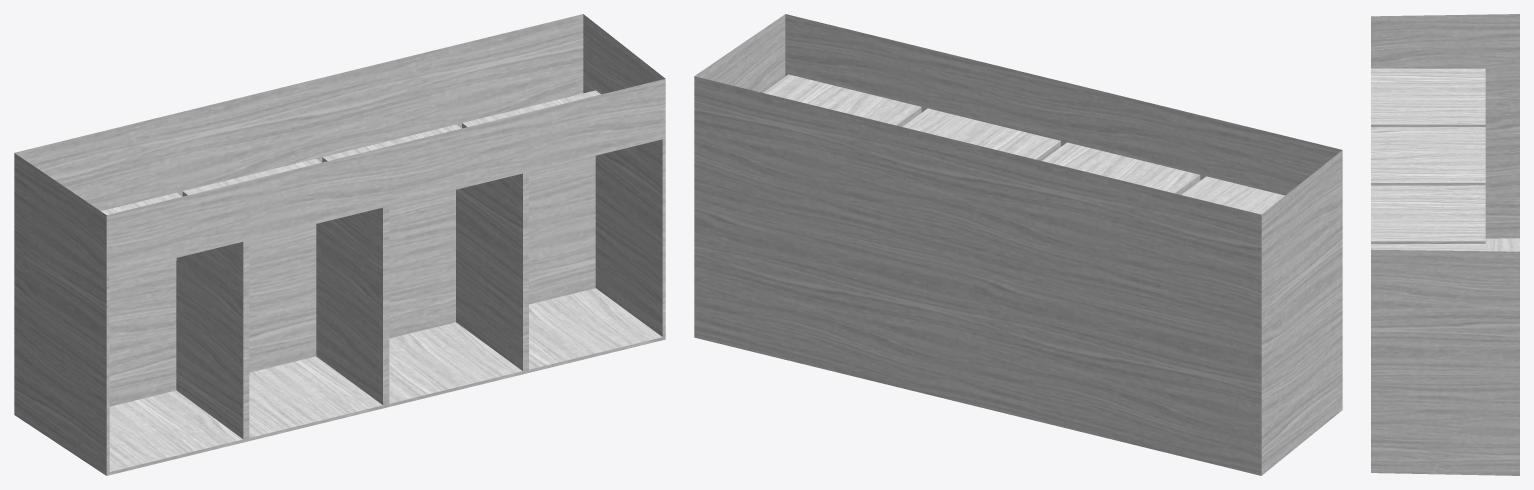
3 views of the same model, side by side, from view 1: azimuth 30°, elevation 25°; view 2: azimuth 150°, elevation 25°; view 3: azimuth 270°, elevation 25° (orthographic). The views are drawn at different scales.
Visible parts, largest first — view 1: FP407:polySurface107_8ee1f773; view 2: FP407:polySurface107_8ee1f773; view 3: FP407:polySurface107_8ee1f773.
Part boxes in pixels (x1,y1,x2,y2): FP407:polySurface107_8ee1f773: [14, 14, 665, 475]; FP407:polySurface107_8ee1f773: [694, 14, 1342, 475]; FP407:polySurface107_8ee1f773: [1371, 14, 1519, 475].
Bounding box in the file's own units: 2 × 0.8794 × 0.5288.
